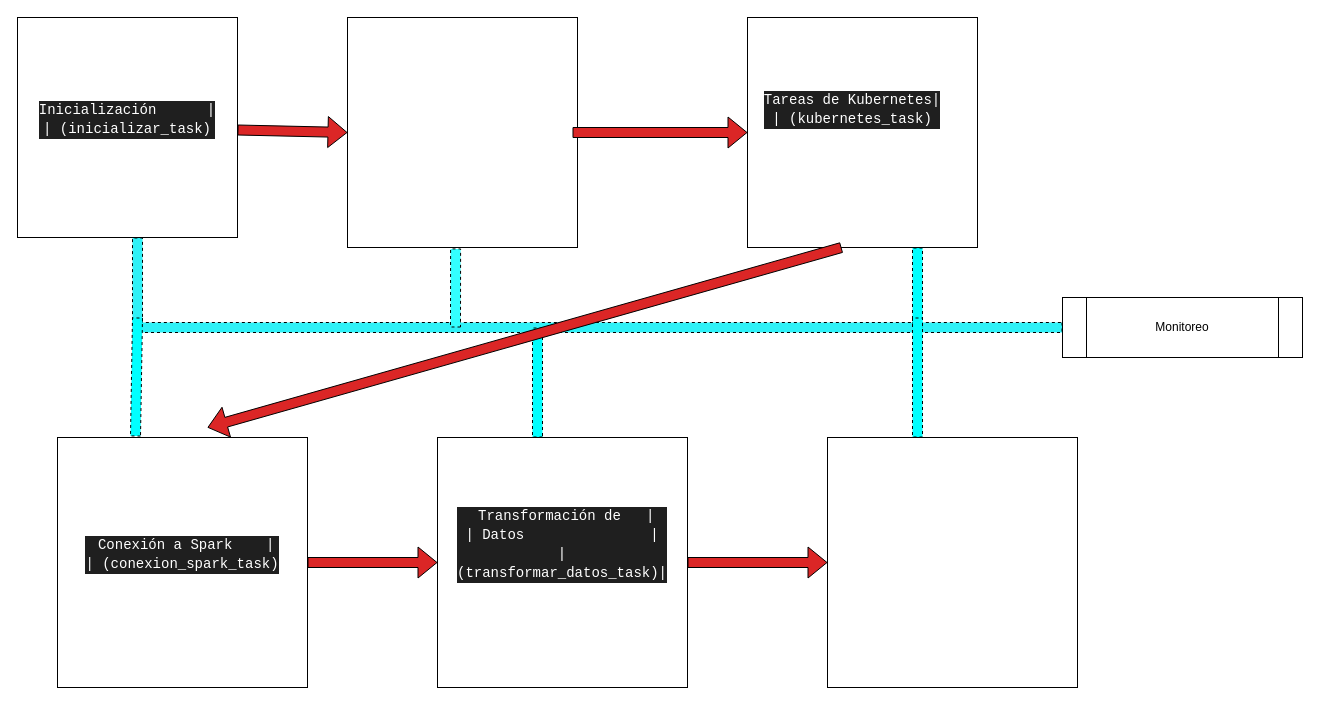
Some shapes in this 1320 by 705 pixel diagram are drawn without their labels. The box of each missing label's shape, as (x1, y1, x2, y2) in pixels:
Carga de Datos | | (cargar_datos_task): (826, 436, 1078, 688)
Conexión a Kafka | | (conexion_kafka_task): (346, 16, 578, 248)
